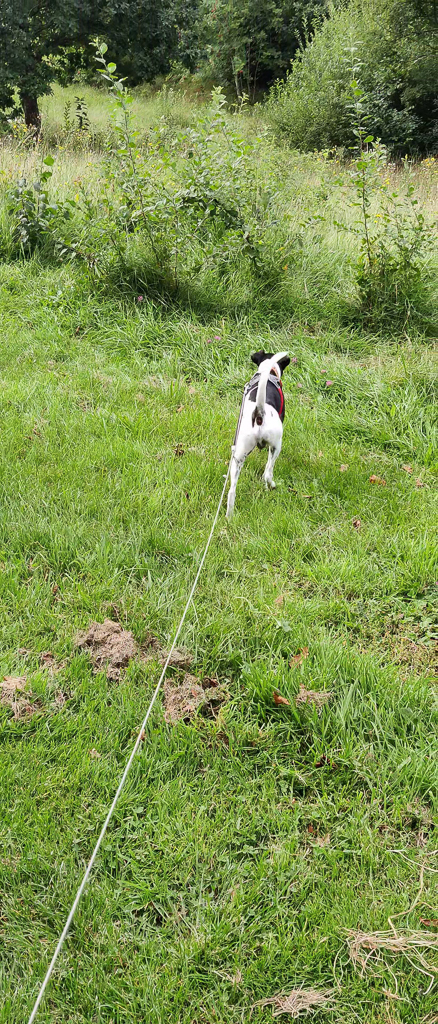Dog: (209, 335, 308, 524)
